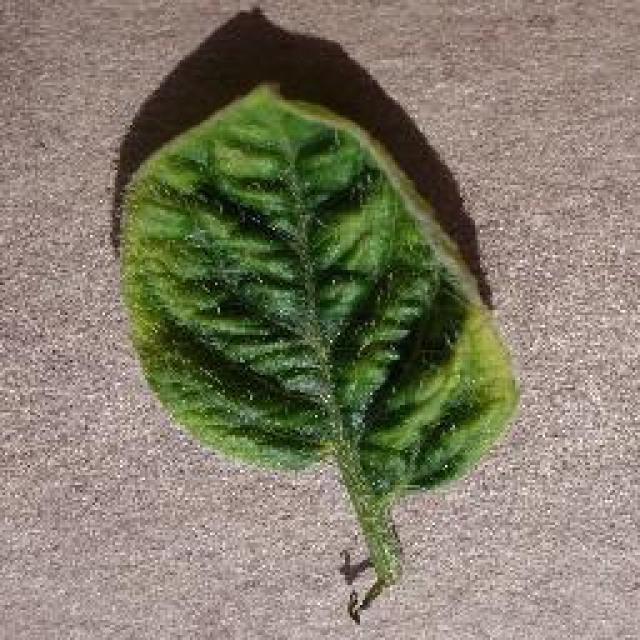Tomato yellow virus leaf: (113, 84, 525, 496)
